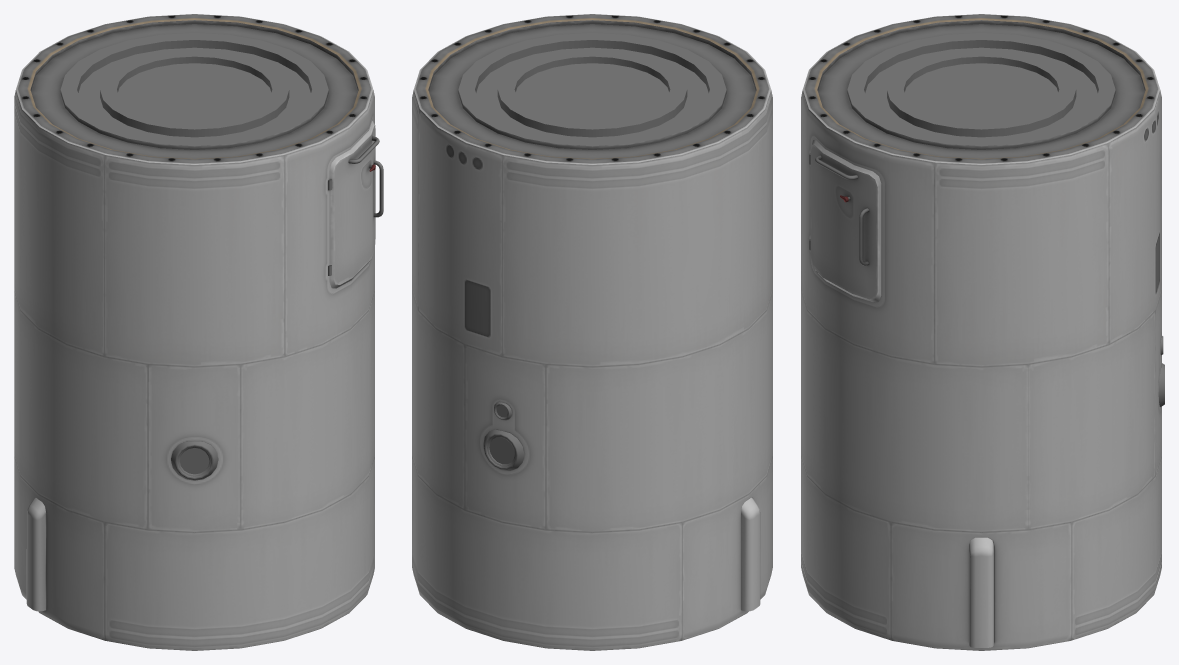
The model's file is MiniLab_Lab.fbx.
The picture shows the model from 3 angles, left to right: view 1: azimuth 30°, elevation 25°; view 2: azimuth 150°, elevation 25°; view 3: azimuth 270°, elevation 25°; orthographic projection.
Parts seen in each view (by area): view 1: Mercury_MiniLab_Merged, MOL_Sheet; view 2: Mercury_MiniLab_Merged, MOL_Sheet; view 3: Mercury_MiniLab_Merged, MOL_Sheet.
Part boxes in pixels (box(x1,y1,x2,y2)): Mercury_MiniLab_Merged: box(14, 14, 383, 650); MOL_Sheet: box(60, 33, 328, 480); Mercury_MiniLab_Merged: box(412, 14, 772, 650); MOL_Sheet: box(458, 33, 726, 470); Mercury_MiniLab_Merged: box(801, 14, 1161, 650); MOL_Sheet: box(847, 33, 1164, 406).
Size of what is drawn, in the model's own units: 1.33 by 1.89 by 1.27.
Materials: 2 (1 with a texture image).
